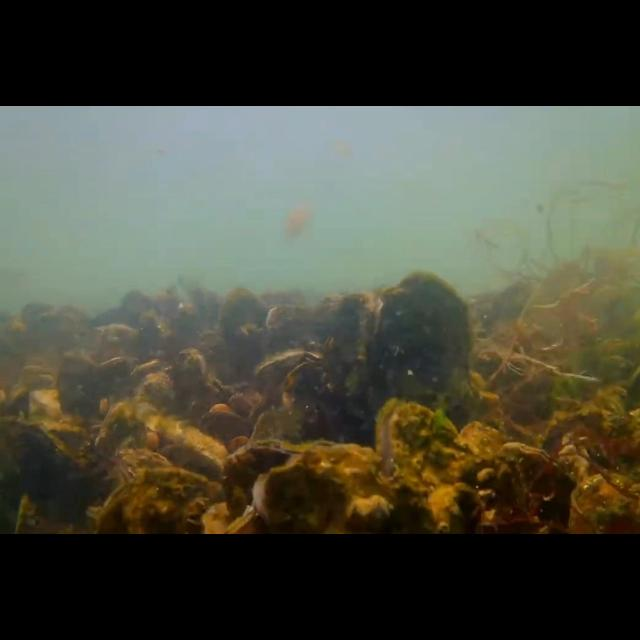Oyster-Closed: (379, 272, 473, 421), (0, 420, 84, 534), (477, 444, 578, 534), (222, 439, 304, 535), (324, 290, 384, 408), (96, 397, 150, 488), (56, 351, 110, 429), (458, 420, 514, 472), (168, 347, 208, 419), (248, 406, 304, 454), (174, 427, 228, 475), (114, 447, 170, 489), (0, 387, 30, 423)
Oyster-Open: (373, 399, 483, 535), (252, 442, 386, 534), (252, 348, 326, 410), (123, 359, 173, 403), (15, 361, 55, 389)
